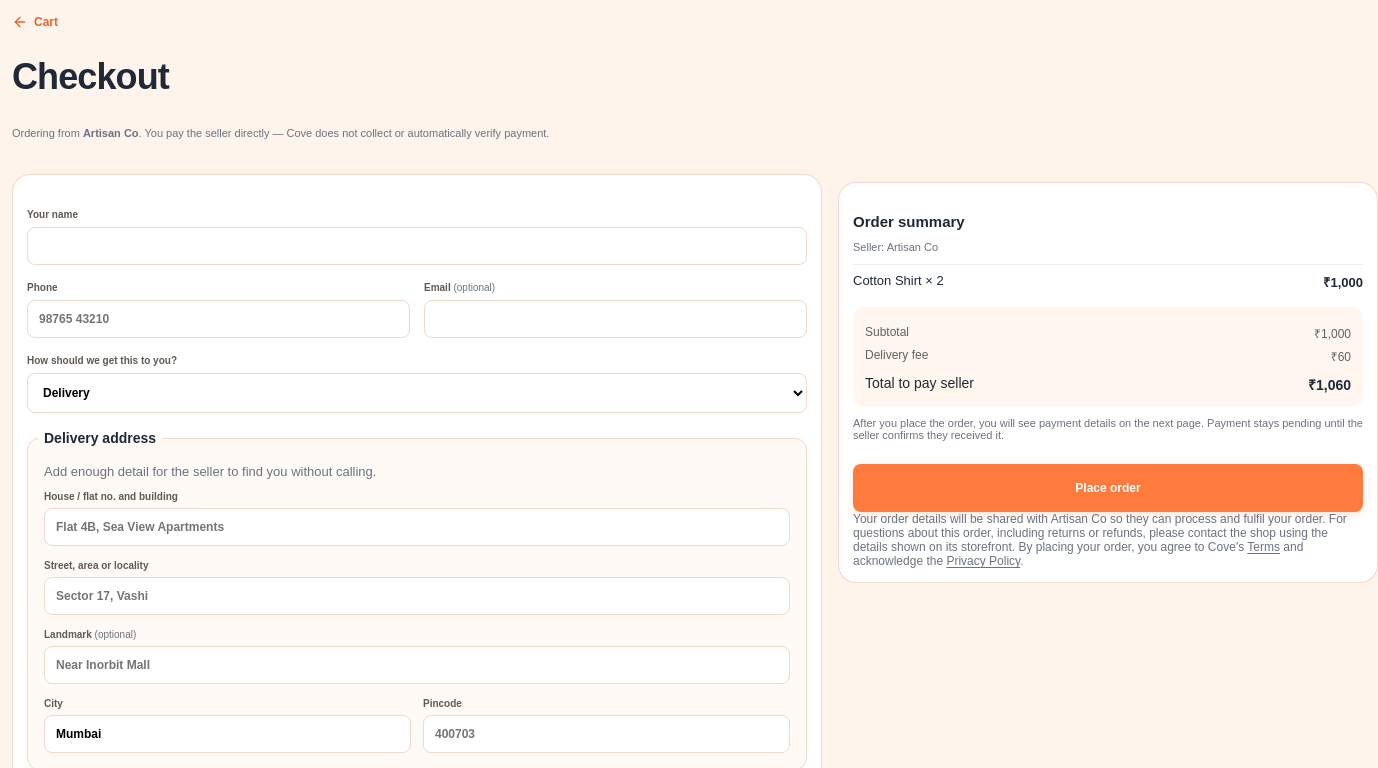
StoreCheckoutPage › validation › validates name, phone, and delivery address before submitting
This screenshot has width=1378, height=768.
Note: Delivery is selected automatically since pickup is disabled
Click the button "Place order" at x=1108, y=488, box [853,464,1363,512]
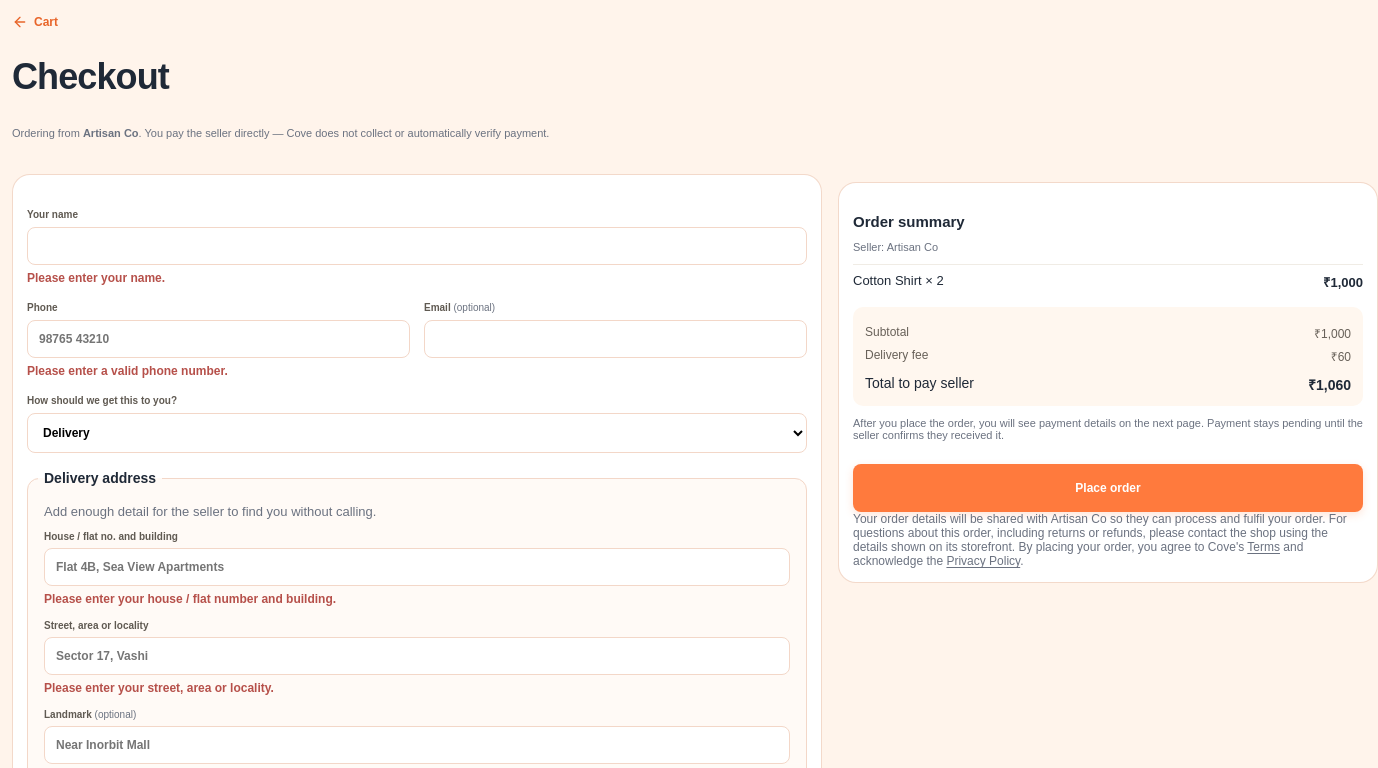
Check: the text "Please enter your name." is shown, box [27,271,165,285]
Check: the text "Please enter a valid phone number." is shown, box [27,364,228,378]
Check: the text "Please enter your house / flat number and building." is shown, box [44,592,336,606]
